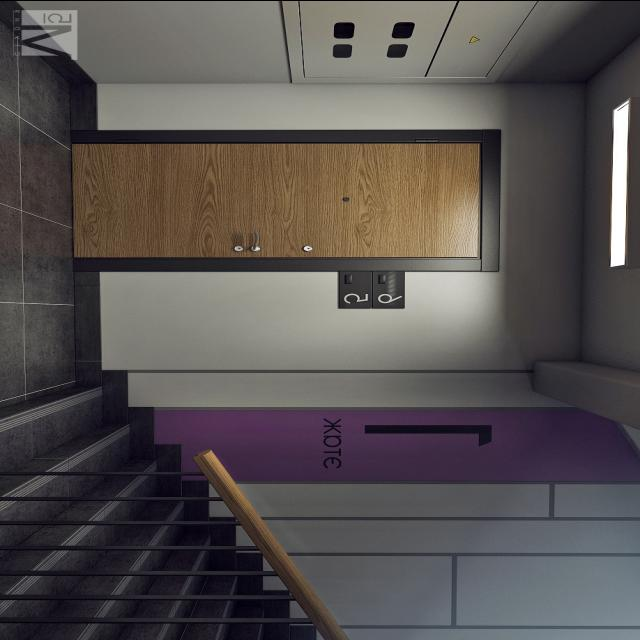close: (73, 127, 492, 268)
